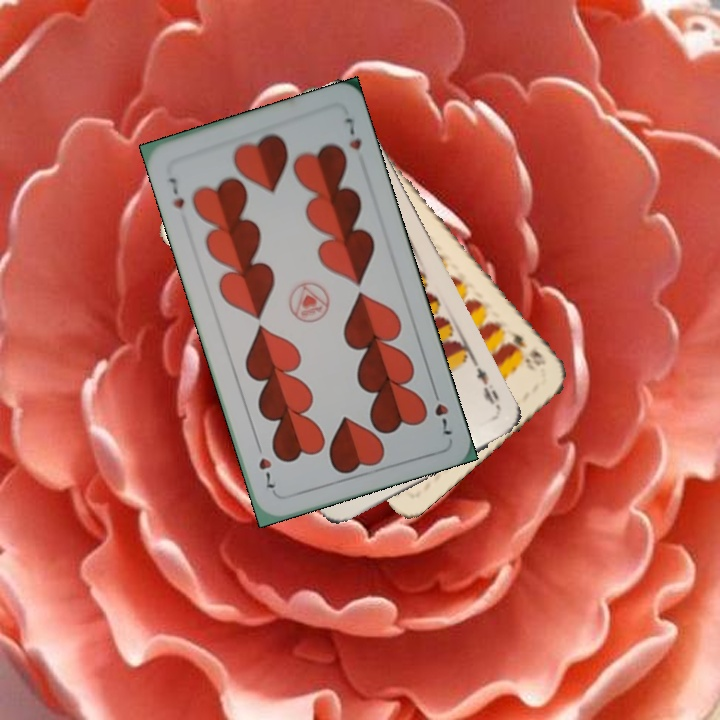E10: (503, 326, 549, 369)
E9: (472, 363, 504, 414)
H7: (427, 382, 455, 438), (165, 173, 187, 212)
